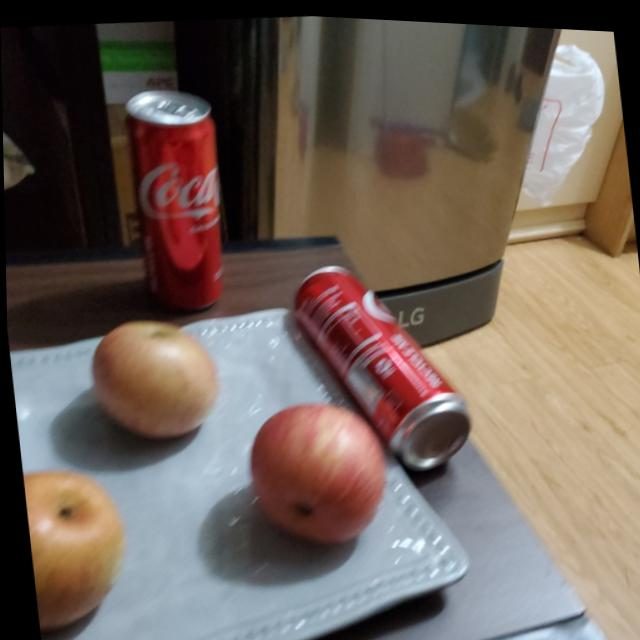apple: (239, 390, 393, 550), (20, 460, 133, 640), (87, 310, 223, 444)
coke: (290, 252, 477, 484), (122, 83, 233, 317)
